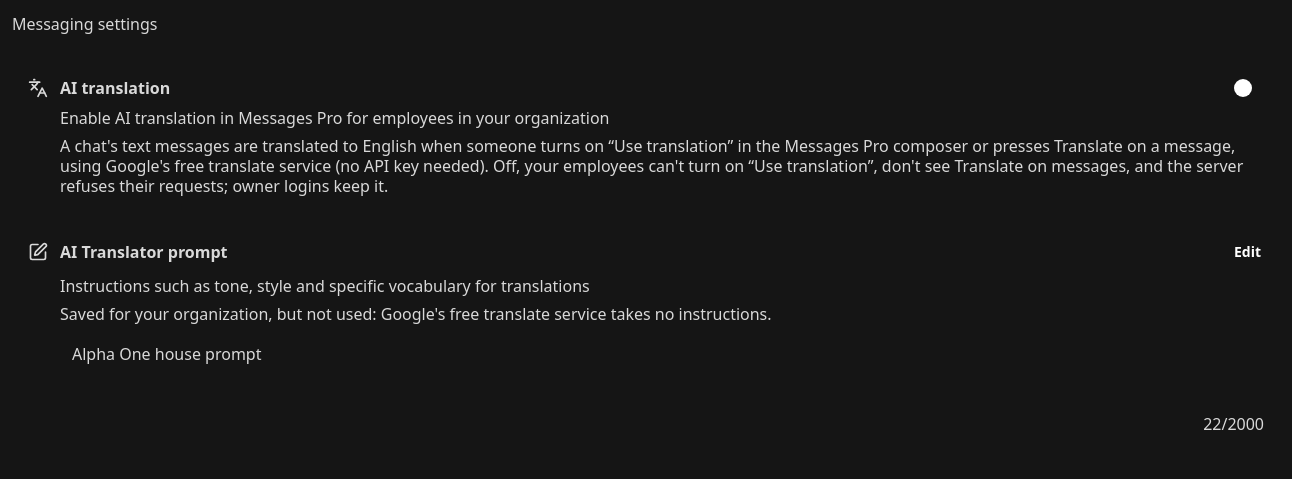
Test: MessagingSettingsTab › a 500 on the switch PUT flips it back and shows the error, after exactly one PUT
This screenshot has width=1292, height=479.
Click the switch named "Enable AI translation in Messages Pro for employees in your organization" at (1254, 88), box [1232,77,1276,99]
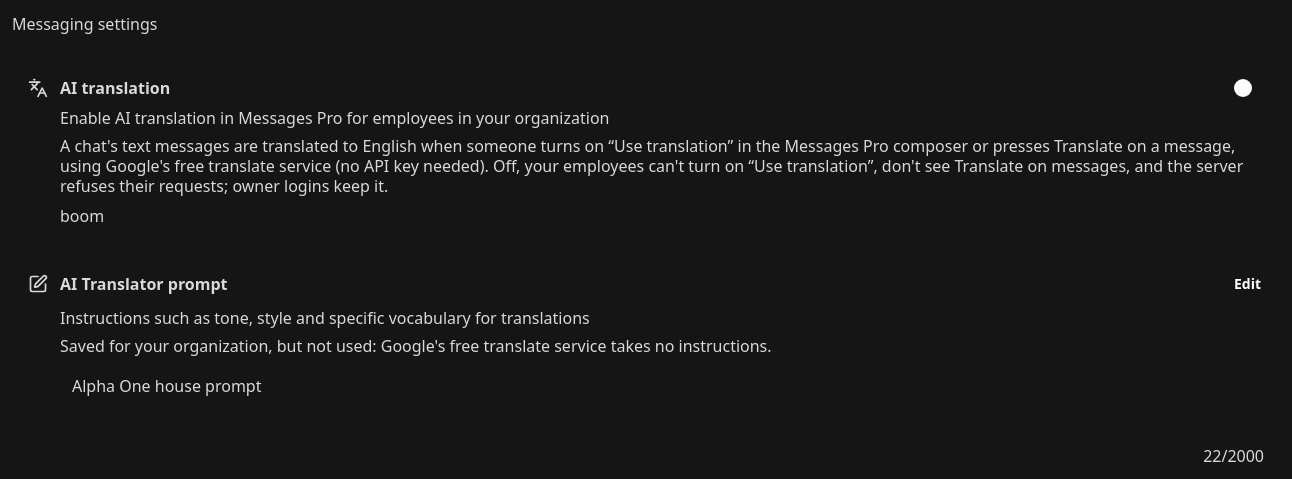
Expected: the message reads "boom", [60,205,104,227]
